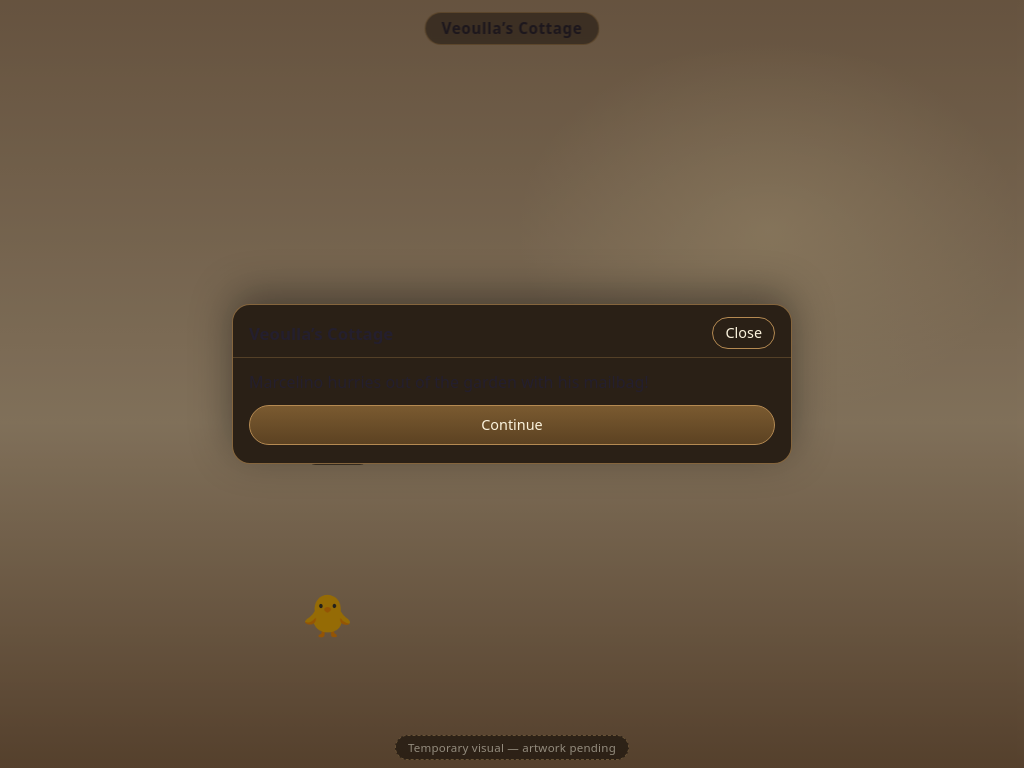
delivery dialog dismissal › does not reopen a closed dialog when an already-authorized delivery finishes
Click the button with test id "marcelino-deliver". click: coordinates (512, 425)
box: [249,405,775,445]
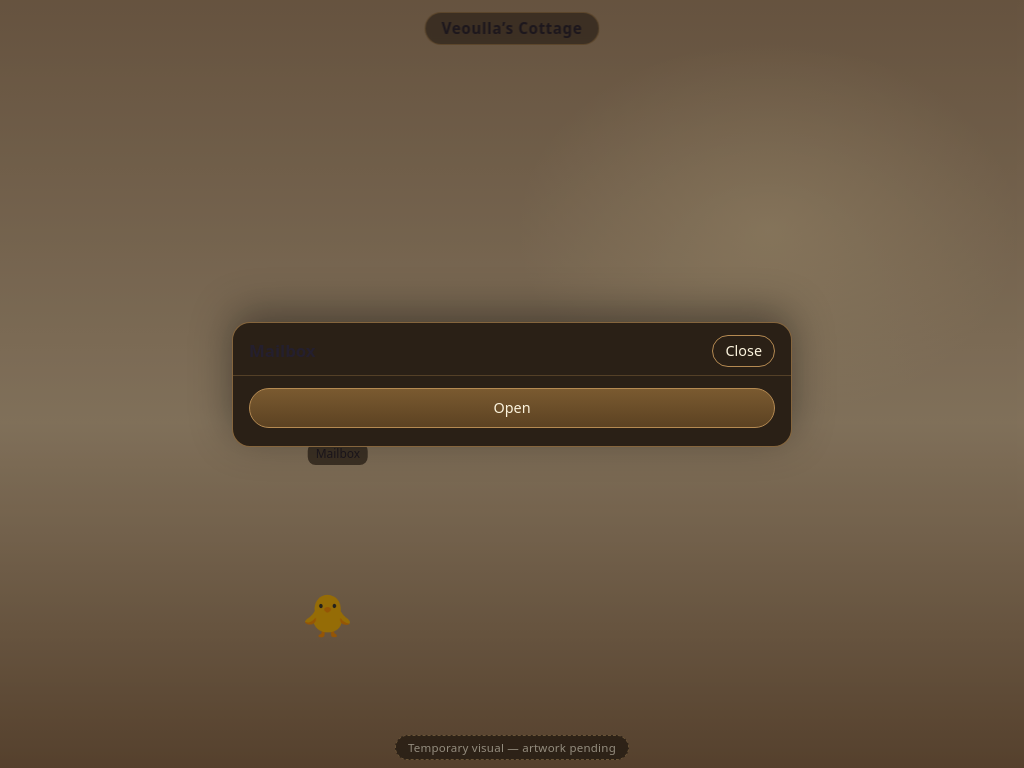
Click the button with test id "marcelino-hand-over". click: coordinates (512, 408)
box: [249,388,775,428]
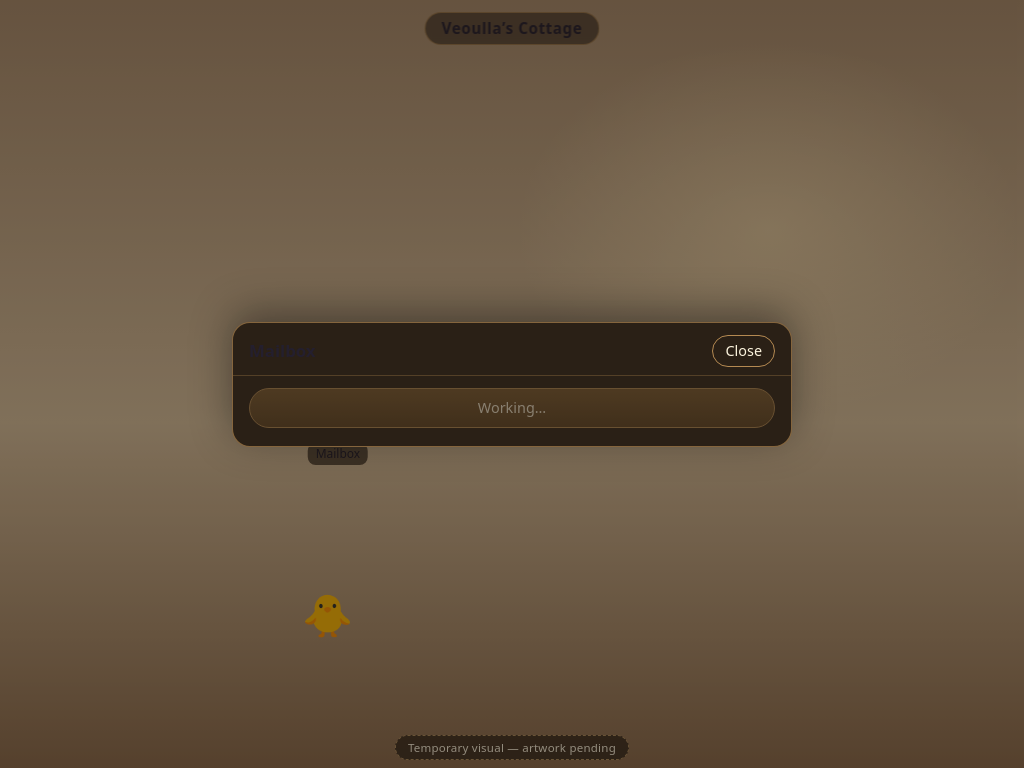
Click the button with test id "marcelino-delivering-close". click: coordinates (744, 350)
box: [712,334,775,366]
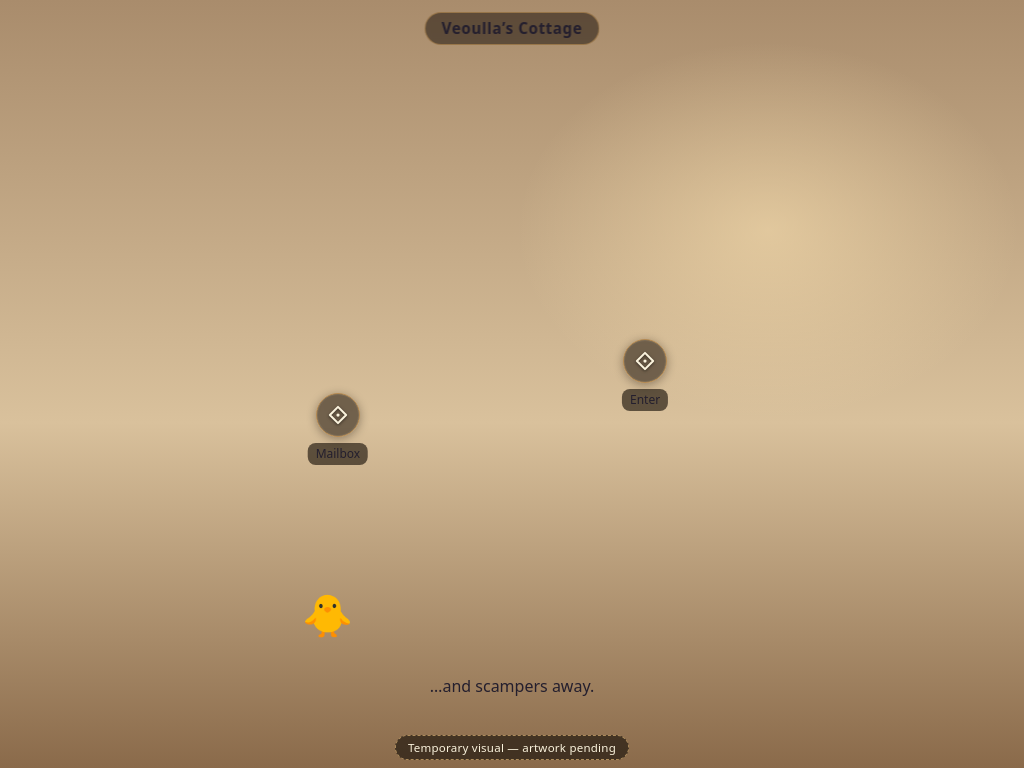
Expected: the dialog is gone
